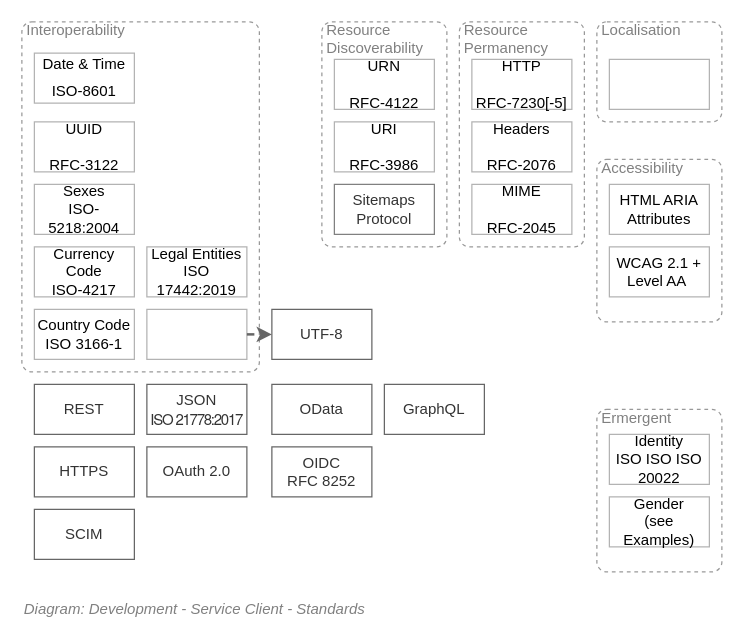
This 744x644 diagram has some shape labels left out. Each missing label, with the centre of its shape:
"Character Set ISO 10646:2017" belongs at [196,333].
"Lang. Codes RFC-4646" belongs at [658,83].
